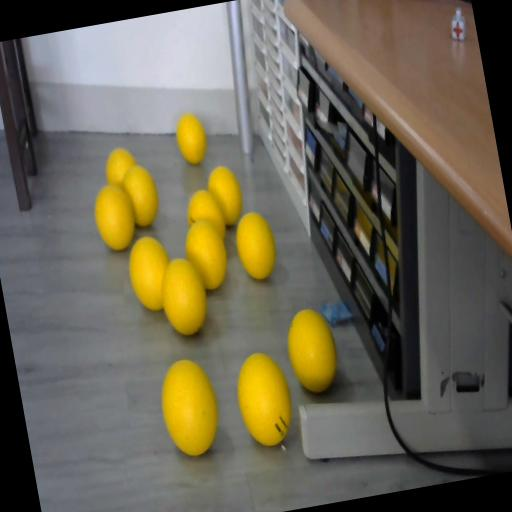FUEL: (153, 352, 224, 460), (229, 346, 298, 450), (280, 304, 342, 396), (123, 232, 177, 314), (180, 215, 234, 293), (230, 208, 280, 283), (89, 181, 140, 254), (118, 161, 163, 229), (204, 162, 246, 228), (172, 110, 210, 166)
